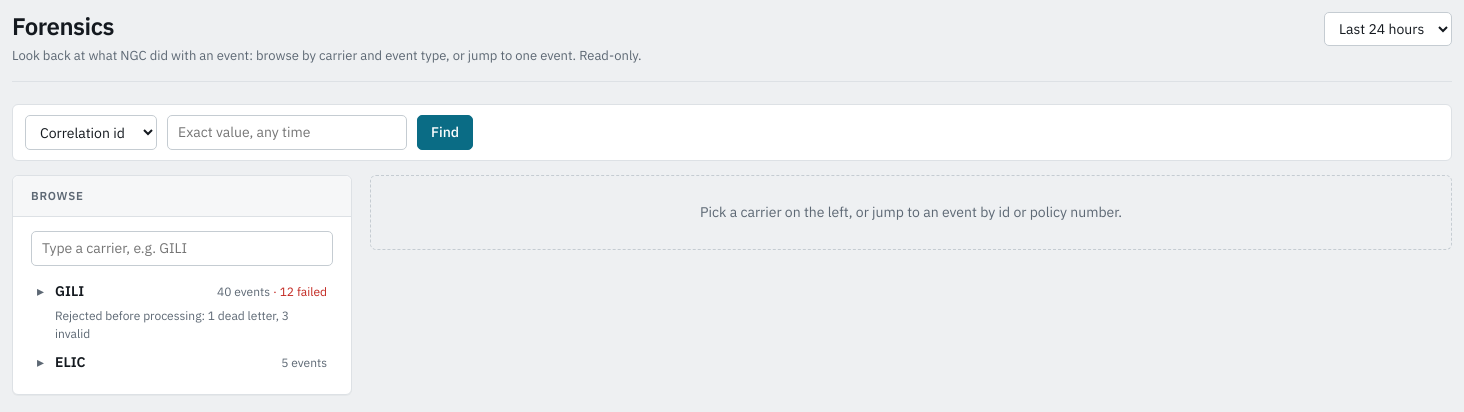
Test: Forensics browse › asks the user to pick a carrier first and lets them narrow the carrier list by typing
Check: the text "Pick a carrier on the left" is shown, box [700, 203, 1122, 221]
Check: the button "▸ GILI 40 events · 12 failed" is shown, box [31, 276, 333, 306]
Step 1. Type "gi" into the field named "Find a carrier" → [182, 248], box [31, 230, 333, 266]
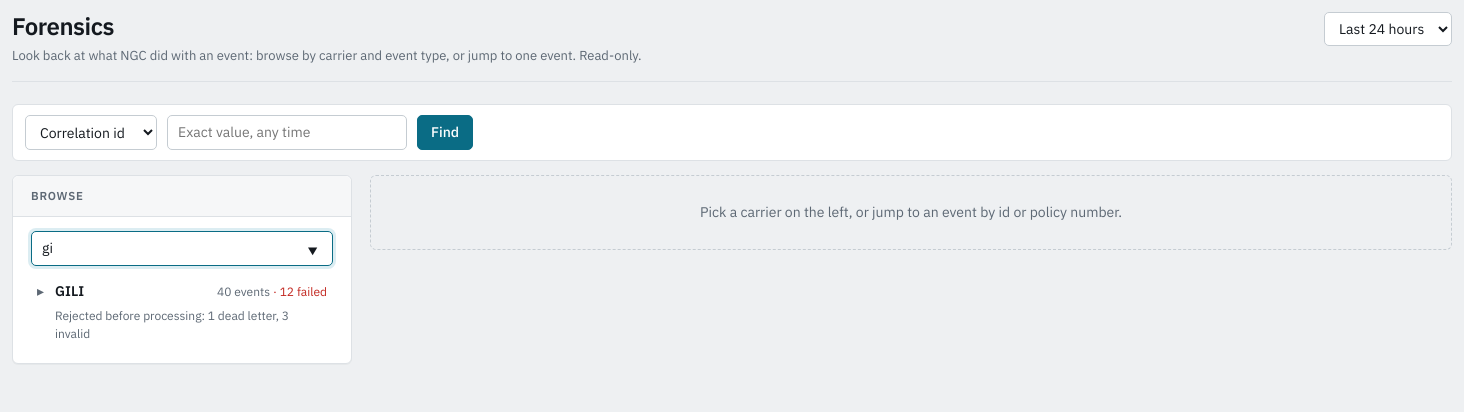
Check: the button "▸ GILI 40 events · 12 failed" is shown, box [31, 276, 333, 306]
Check: the button "ELIC" is gone
